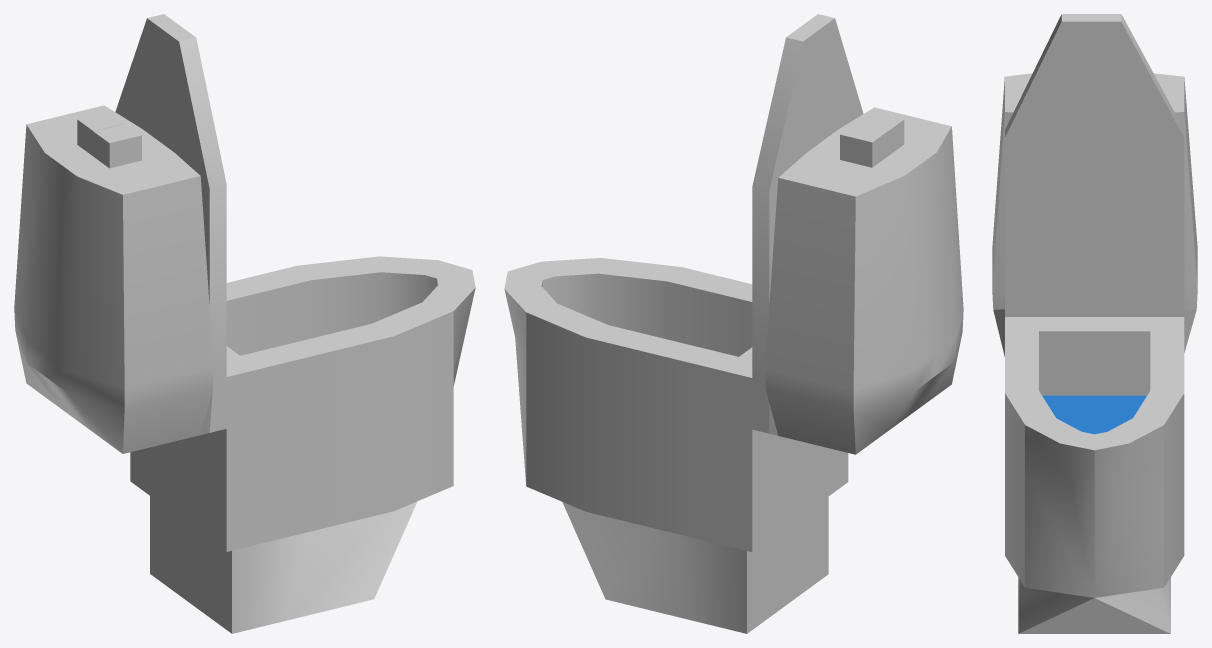
File: toilet.fbx
The picture shows the model from 3 angles, left to right: view 1: azimuth 30°, elevation 25°; view 2: azimuth 150°, elevation 25°; view 3: azimuth 270°, elevation 25°; orthographic projection. The views are drawn at different scales.
Visible parts, largest first — view 1: Cube; view 2: Cube; view 3: Cube, Circle.
Boxes of the visible parts, x1=… form: Cube: x1=14, y1=14, x2=475, y2=633; Cube: x1=504, y1=14, x2=963, y2=633; Cube: x1=992, y1=14, x2=1197, y2=633; Circle: x1=1042, y1=395, x2=1146, y2=434.
Bounding box in the file's own units: 354 × 462 × 159.
